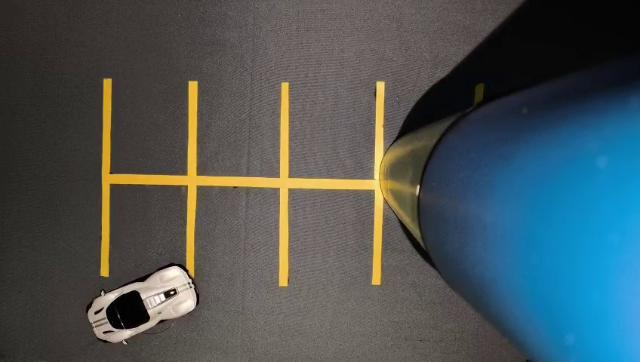toy_car: (80, 215, 228, 357)
